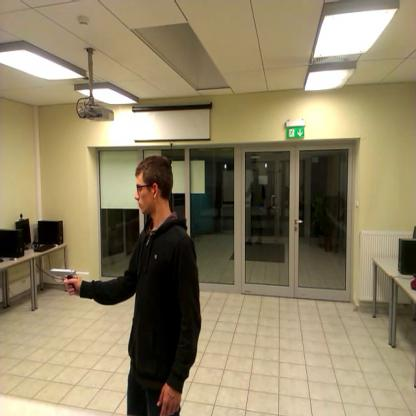Pistol: (44, 263, 86, 301)
